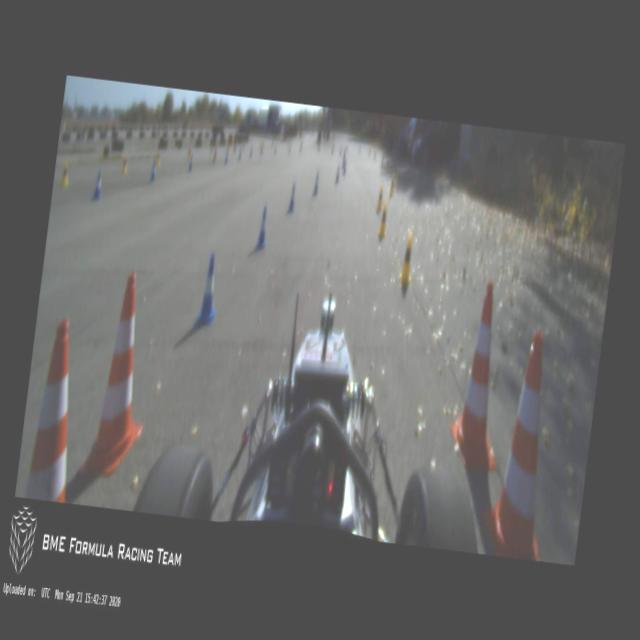blue_cone: (193, 251, 222, 330), (254, 206, 270, 252), (92, 170, 104, 200), (287, 182, 297, 215), (148, 160, 157, 185), (312, 170, 320, 196), (334, 164, 341, 184), (187, 154, 194, 172), (342, 160, 347, 176), (223, 150, 228, 164)
large_orange_cone: (484, 328, 567, 560), (76, 267, 162, 479), (445, 277, 518, 473), (23, 316, 88, 502)
yellow_cone: (397, 230, 416, 287), (377, 200, 389, 238), (60, 161, 71, 189), (374, 186, 384, 213), (120, 153, 128, 175), (388, 172, 395, 197), (154, 148, 161, 168), (186, 142, 193, 162), (395, 170, 401, 189), (385, 156, 389, 172)
